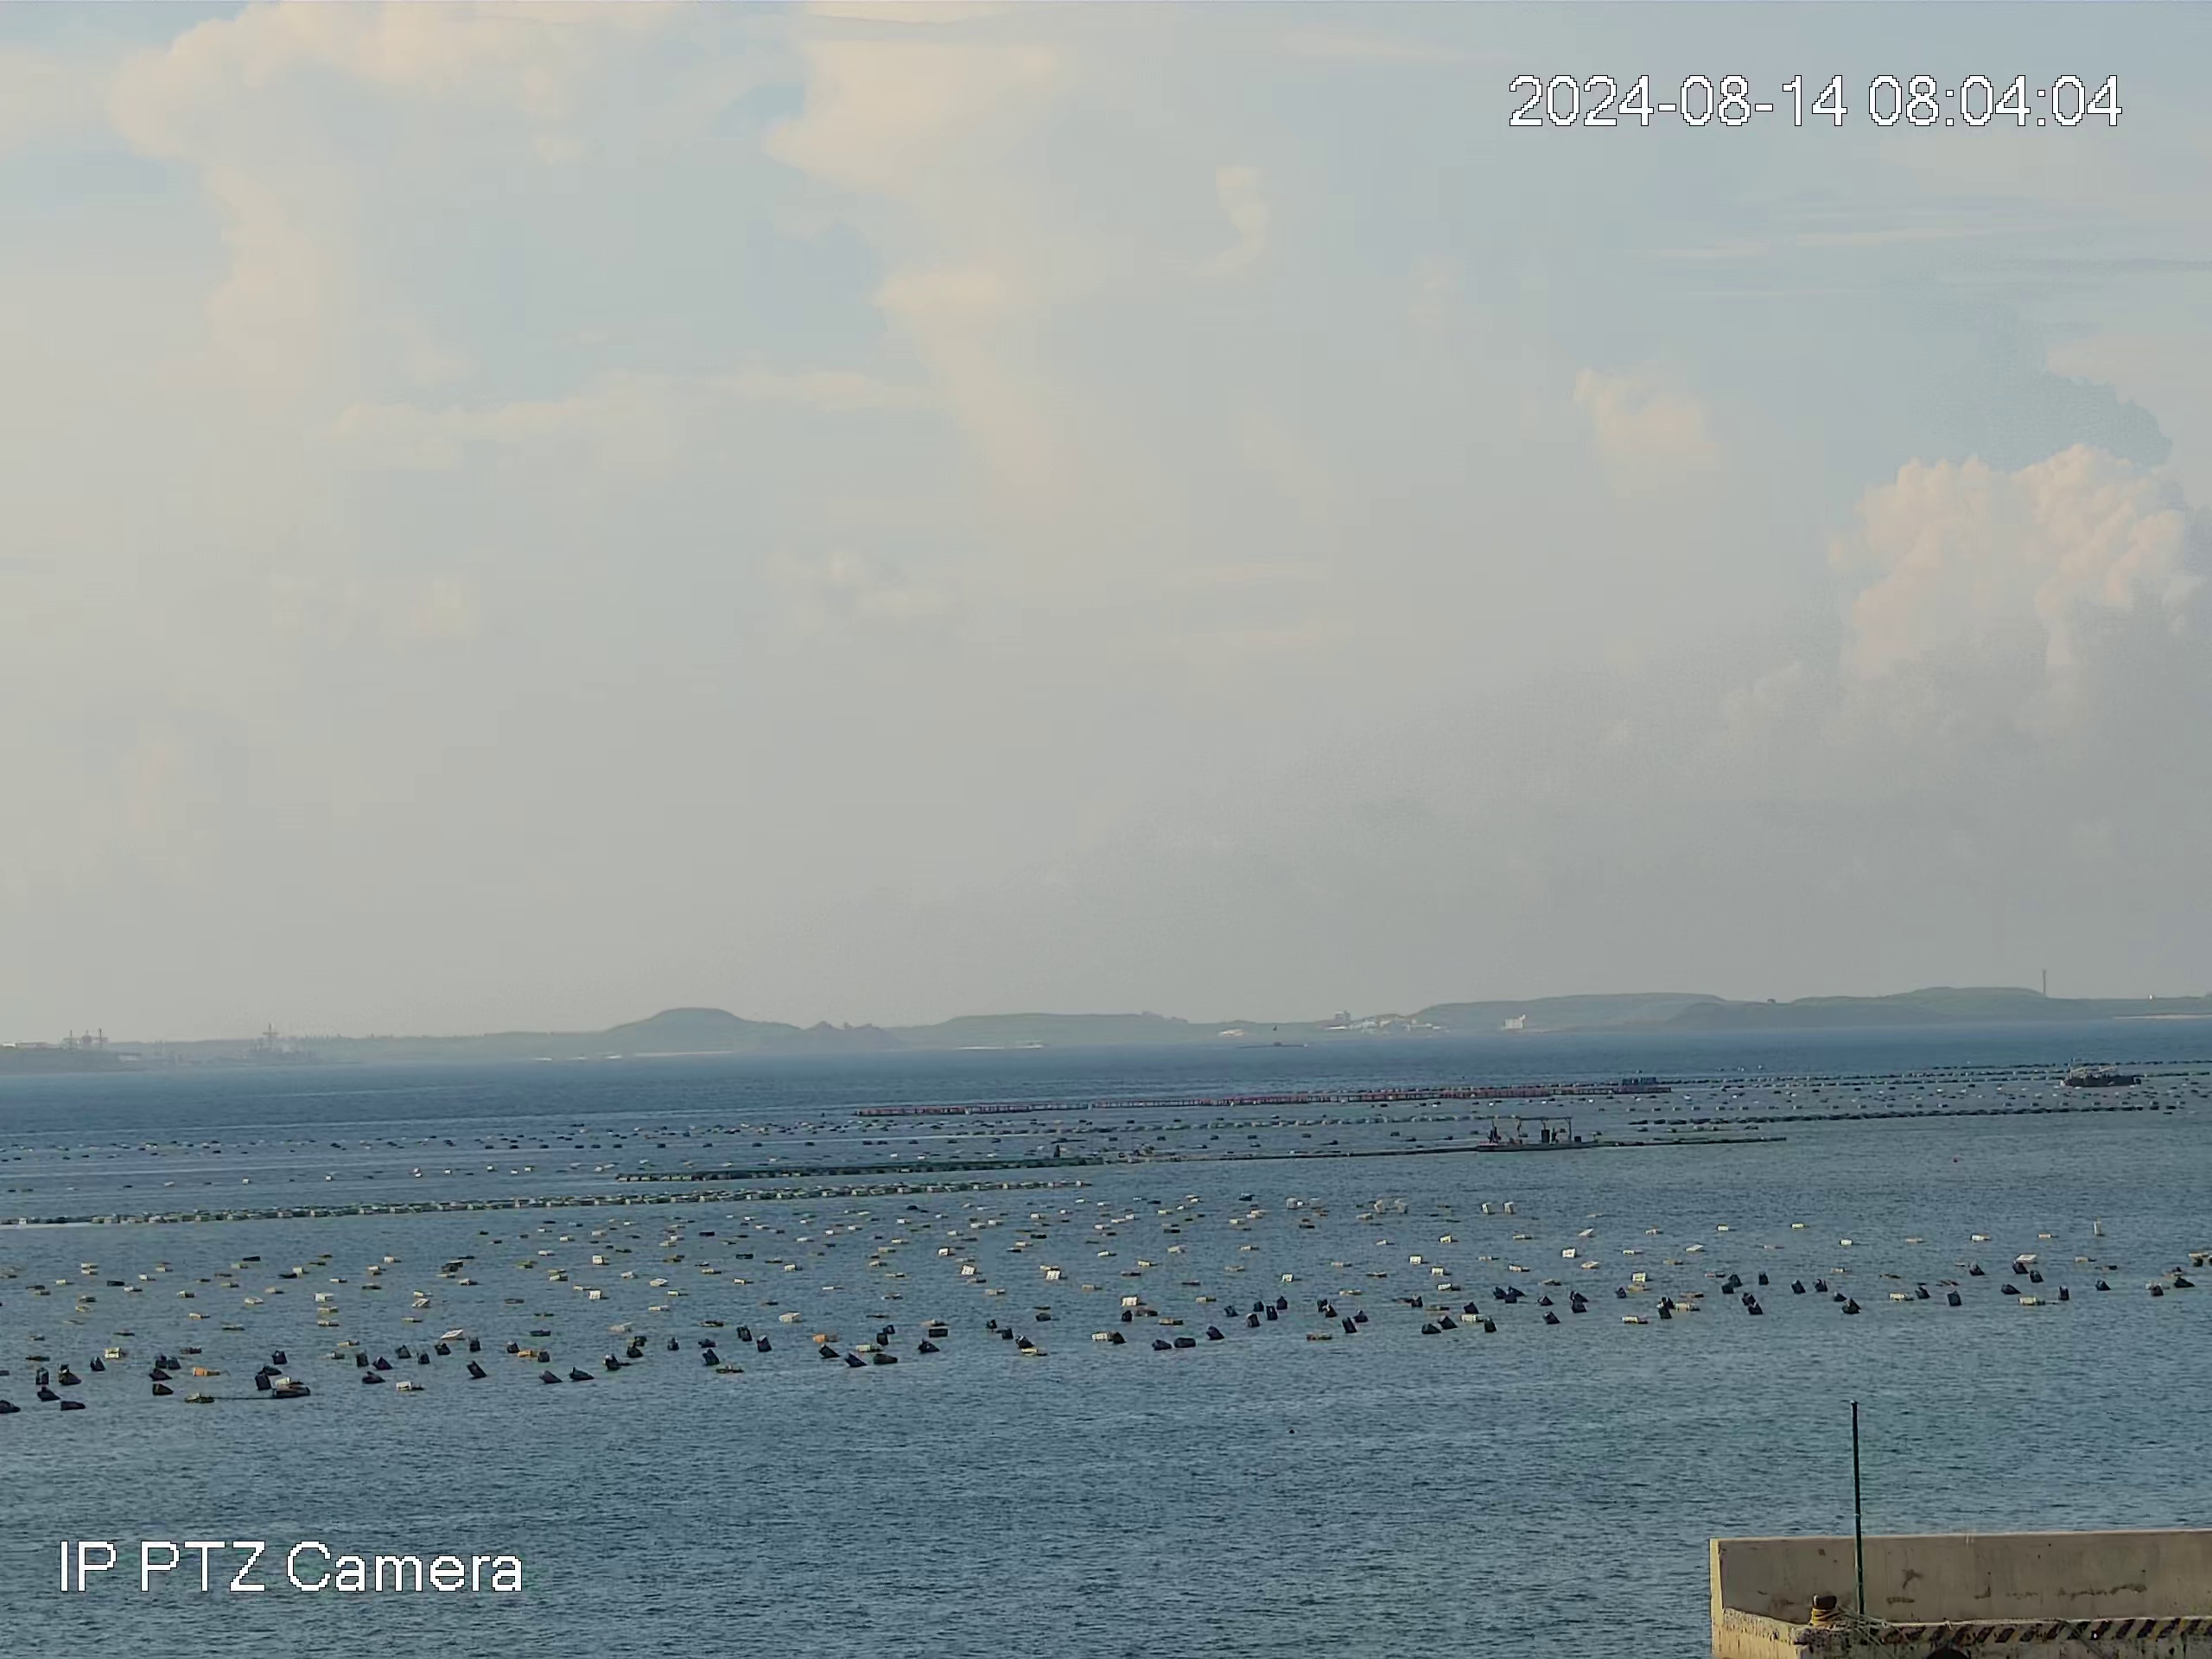boat: (1477, 1110, 1602, 1152), (2064, 1063, 2149, 1089)
